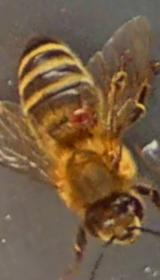varroa_mite: (68, 106, 94, 124)
